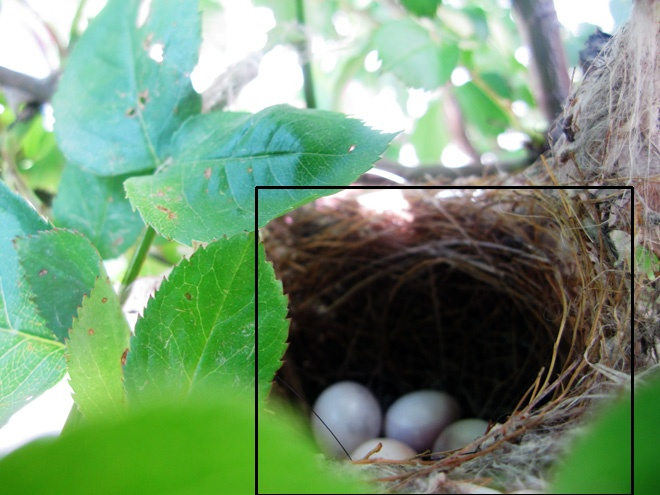bird-nest: (256, 187, 632, 495)
